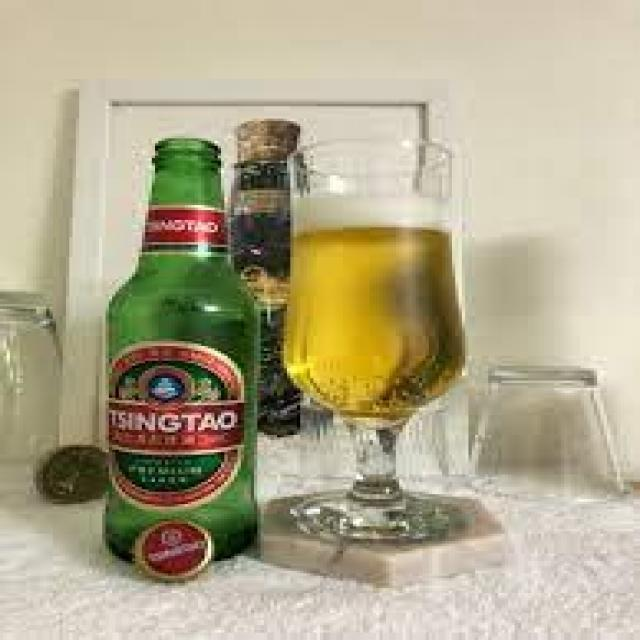beer-bottle: (69, 126, 277, 581)
